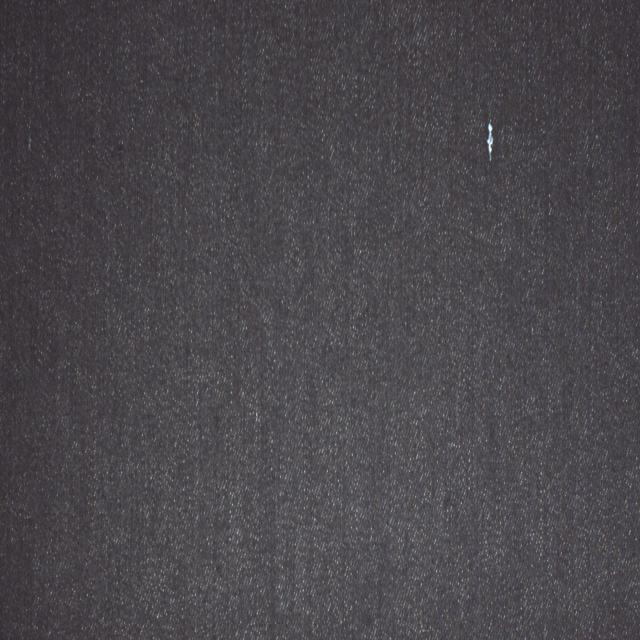Knot: (487, 119, 495, 160)
